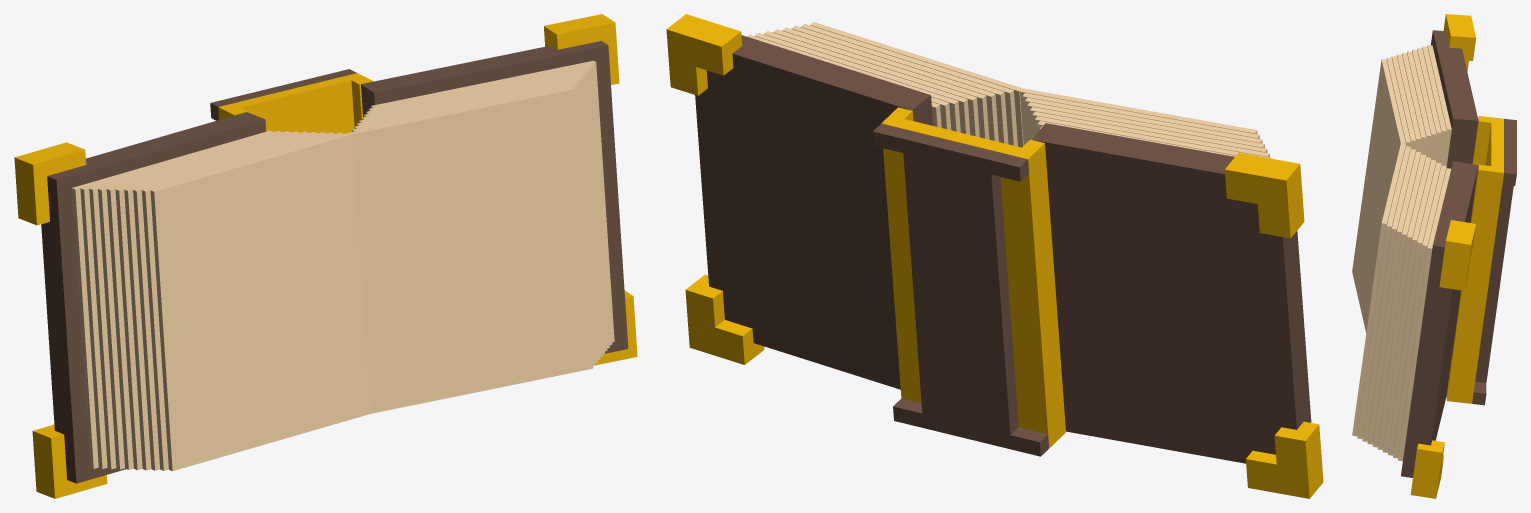
File: book-new-transformed.glb
3 views of the same model, side by side, from view 1: azimuth 30°, elevation 25°; view 2: azimuth 150°, elevation 25°; view 3: azimuth 270°, elevation 25° (orthographic). The views are drawn at different scales.
Visible parts, largest first — view 1: Mesh_18, Mesh_7, Mesh_3; view 2: Mesh_7, Mesh_3, Mesh_18; view 3: Mesh_18, Mesh_7, Mesh_3.
Part boxes in pixels (x1=…): Mesh_18: x1=71, y1=60, x2=614, y2=471; Mesh_7: x1=41, y1=41, x2=628, y2=483; Mesh_3: x1=14, y1=14, x2=637, y2=498; Mesh_7: x1=695, y1=35, x2=1311, y2=463; Mesh_3: x1=666, y1=14, x2=1323, y2=498; Mesh_18: x1=747, y1=22, x2=1272, y2=158; Mesh_18: x1=1352, y1=45, x2=1451, y2=461; Mesh_7: x1=1401, y1=30, x2=1516, y2=477; Mesh_3: x1=1410, y1=14, x2=1503, y2=498.
Size of the model in its own units: 2.64 by 1.38 by 0.802.
